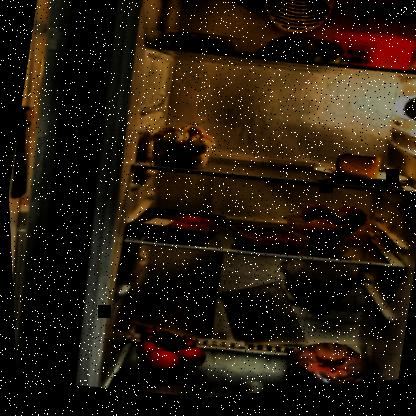banana: (249, 27, 353, 83)
beef: (146, 205, 207, 243)
blueberries: (164, 28, 238, 67)
butter: (323, 27, 415, 90)
cheese: (329, 154, 381, 193)
chicken: (273, 334, 378, 395)
mushrooms: (143, 120, 217, 180)
onion: (295, 198, 377, 260)
shrimp: (231, 225, 304, 264)
tomato: (128, 321, 210, 386)
